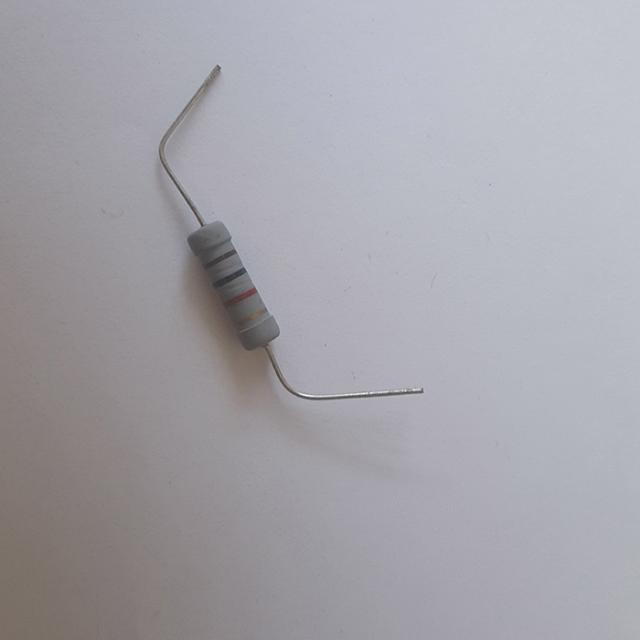black: (212, 266, 245, 288)
brown: (203, 248, 235, 267)
gold: (236, 308, 267, 327)
red: (223, 287, 256, 307)
resistor: (173, 211, 291, 361)
